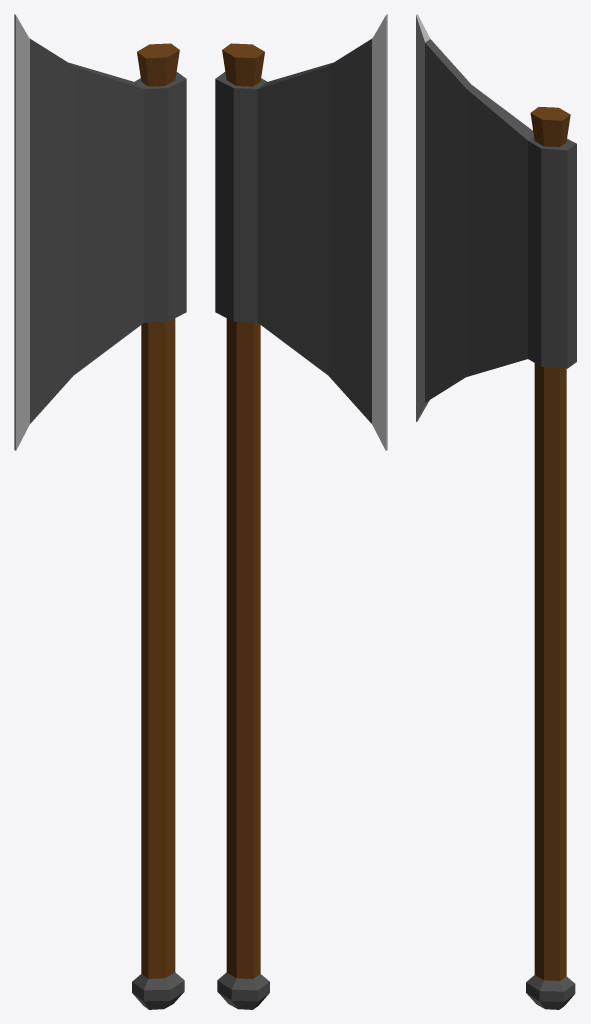
File: Weapon_AxeUV.fbx
The picture shows the model from 3 angles, left to right: view 1: azimuth 30°, elevation 25°; view 2: azimuth 150°, elevation 25°; view 3: azimuth 330°, elevation 25°; orthographic projection. The views are drawn at different scales.
Parts seen in each view (by area): view 1: Cylinder.001; view 2: Cylinder.001; view 3: Cylinder.001.
Part boxes in pixels (<box>): Cylinder.001: <box>14,14,186,1009</box>; Cylinder.001: <box>215,14,387,1009</box>; Cylinder.001: <box>416,14,576,1009</box>.
Size of the model in its own units: 20.74 by 122 by 5.1.
